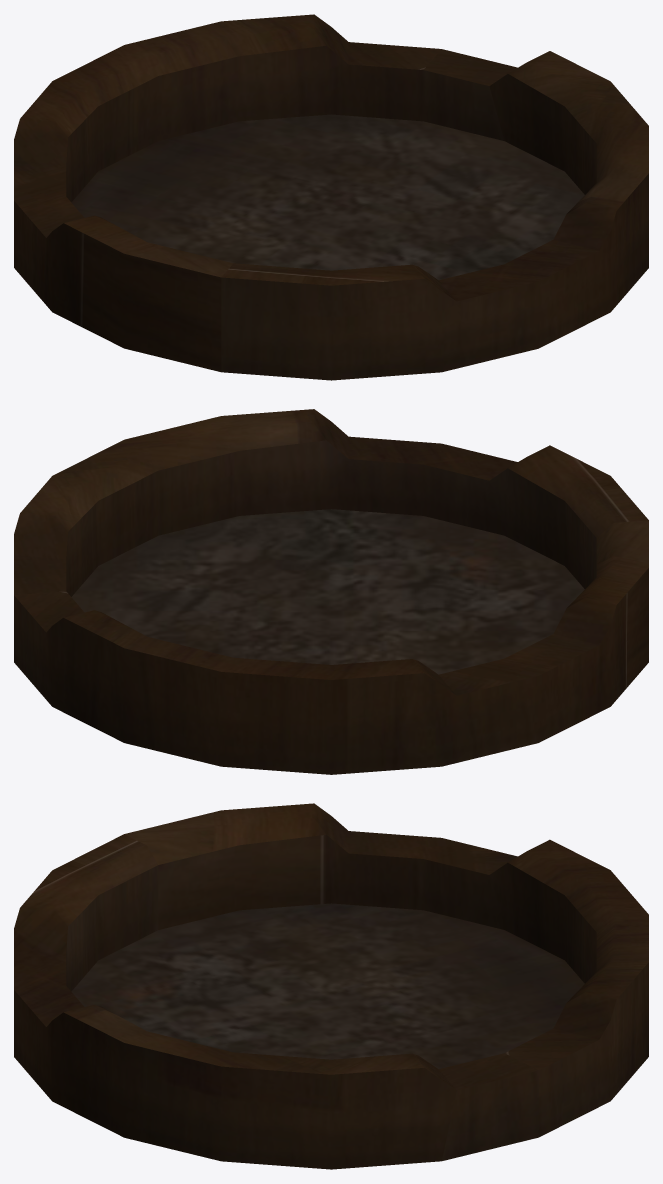
Rendered from Ashtray.FBX.
The picture shows the model from 3 angles, top to bottom: view 1: azimuth 30°, elevation 25°; view 2: azimuth 150°, elevation 25°; view 3: azimuth 270°, elevation 25°; orthographic projection.
Parts seen in each view (by area): view 1: AshTray; view 2: AshTray; view 3: AshTray.
Part boxes in pixels (box(x1,y1,x2,y2)): AshTray: box(14, 14, 648, 380); AshTray: box(14, 409, 648, 774); AshTray: box(14, 803, 648, 1169).
Size of the model in its own units: 57.36 by 9.33 by 56.49.
1 material, 1 textured.
